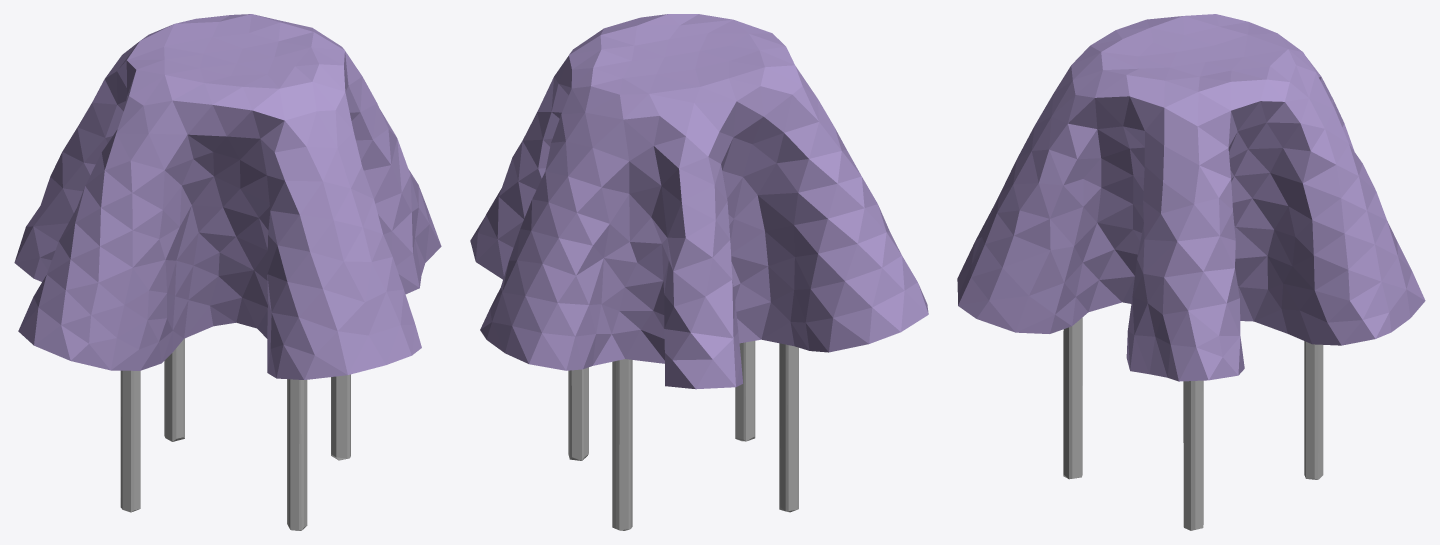
File: level_0.glb
The picture shows the model from 3 angles, left to right: view 1: azimuth 30°, elevation 25°; view 2: azimuth 150°, elevation 25°; view 3: azimuth 270°, elevation 25°; orthographic projection.
Visible parts, largest first — view 1: world, object.obj; view 2: world, object.obj; view 3: world, object.obj.
Part boxes in pixels (<box>): world: <box>14,14,441,379</box>; object.obj: <box>120,338,350,530</box>; world: <box>470,14,928,389</box>; object.obj: <box>568,341,798,530</box>; world: <box>957,14,1425,381</box>; object.obj: <box>1063,317,1323,530</box>.
Size of the model in its own units: 0.3318 by 0.3197 by 0.3185.
